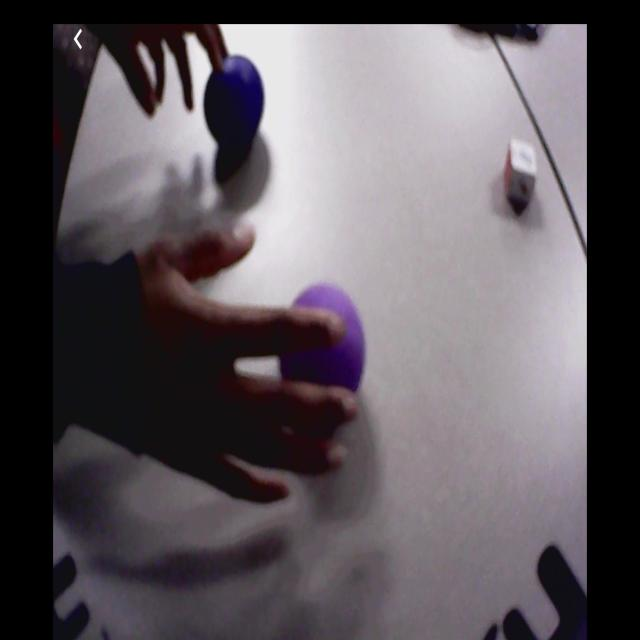ball: (279, 282, 368, 402), (204, 59, 265, 148)
